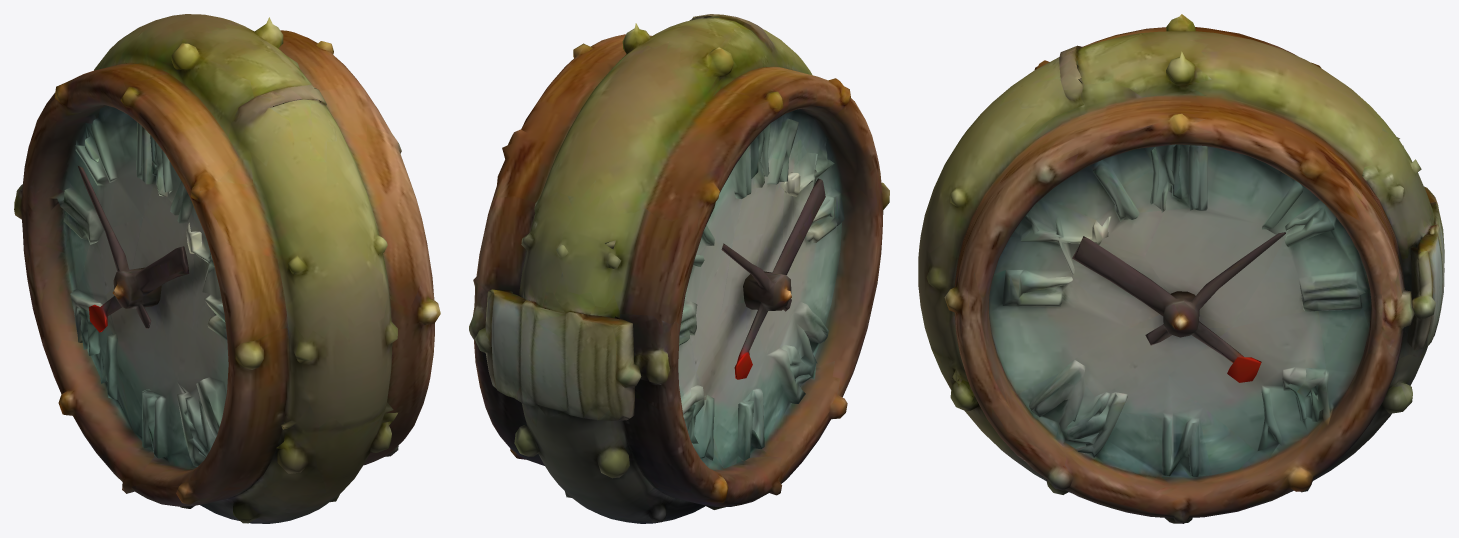
The model's file is deco_clock.glb.
3 views of the same model, side by side, from view 1: azimuth 30°, elevation 25°; view 2: azimuth 150°, elevation 25°; view 3: azimuth 270°, elevation 25° (orthographic).
Parts seen in each view (by area): view 1: tripo_node_180b8efc-c1ac-4d18-821e-8a09e14a05a4; view 2: tripo_node_180b8efc-c1ac-4d18-821e-8a09e14a05a4; view 3: tripo_node_180b8efc-c1ac-4d18-821e-8a09e14a05a4.
Part boxes in pixels (bbox=[...]): tripo_node_180b8efc-c1ac-4d18-821e-8a09e14a05a4: bbox=[14, 14, 440, 523]; tripo_node_180b8efc-c1ac-4d18-821e-8a09e14a05a4: bbox=[469, 14, 889, 523]; tripo_node_180b8efc-c1ac-4d18-821e-8a09e14a05a4: bbox=[918, 14, 1444, 523].
Bounding box in the file's own units: 0.4972 × 1 × 0.9999.
1 material, 1 textured.
